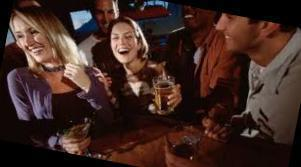Drunk: (13, 15, 50, 62), (111, 24, 137, 62)
